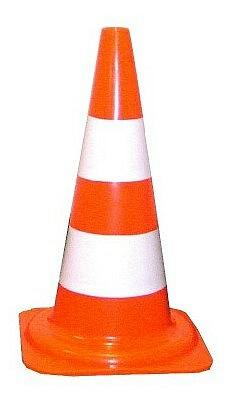traffic_cone: (18, 26, 214, 376)
